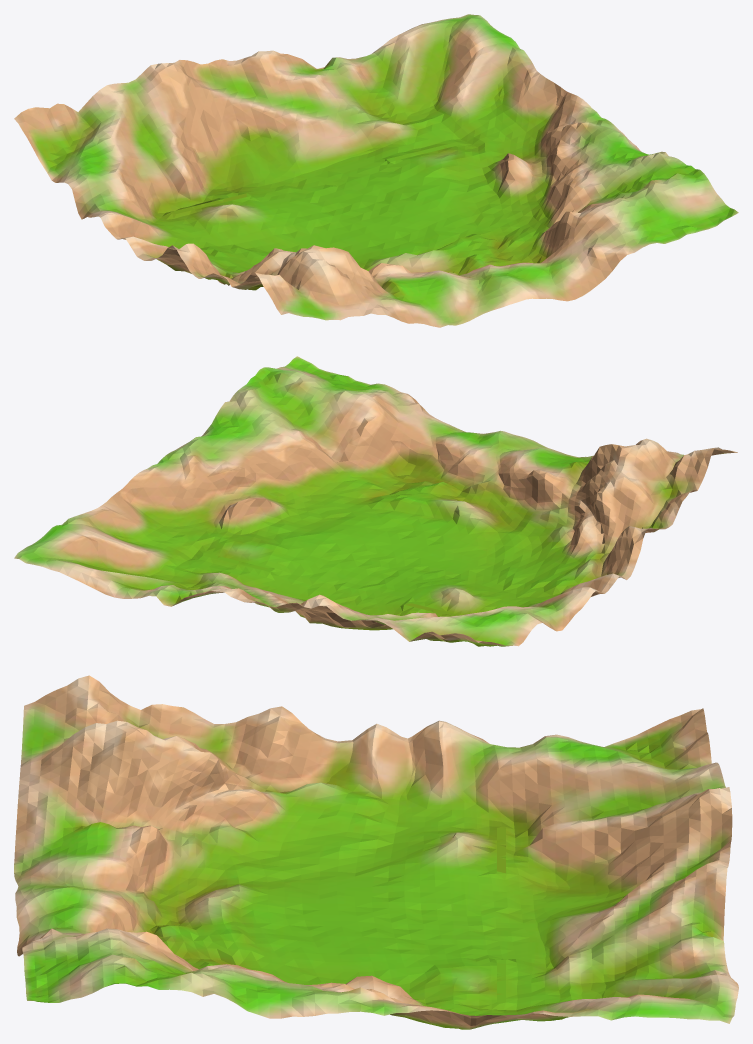
Rendered from Env_Mountain01.fbx.
3 renders of one model, top to bottom at view 1: azimuth 30°, elevation 25°; view 2: azimuth 150°, elevation 25°; view 3: azimuth 270°, elevation 25°, orthographic. The views are drawn at different scales.
Parts seen in each view (by area): view 1: Env_Mountain01; view 2: Env_Mountain01; view 3: Env_Mountain01.
Boxes of the visible parts, x1,y1,x2,y2 form: Env_Mountain01: (14,14,738,327); Env_Mountain01: (14,356,737,646); Env_Mountain01: (14,675,738,1029).
Bounding box in the file's own units: 53480 × 54242 × 9368.
